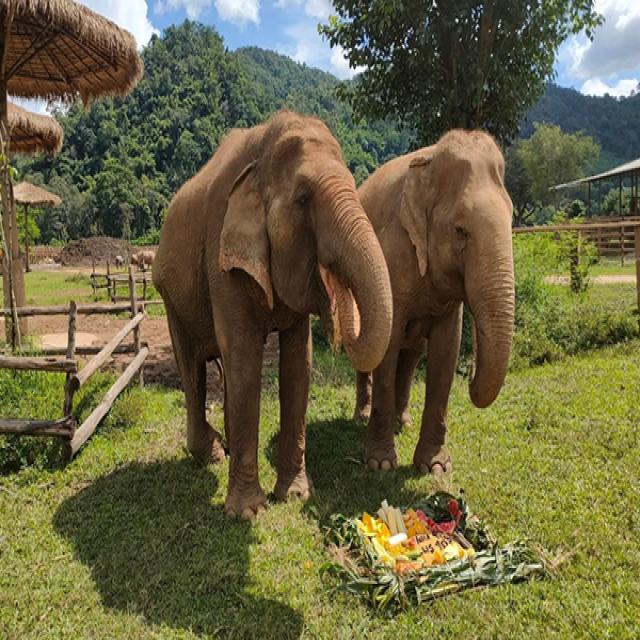Elephant: (144, 98, 392, 527), (343, 113, 548, 486)
